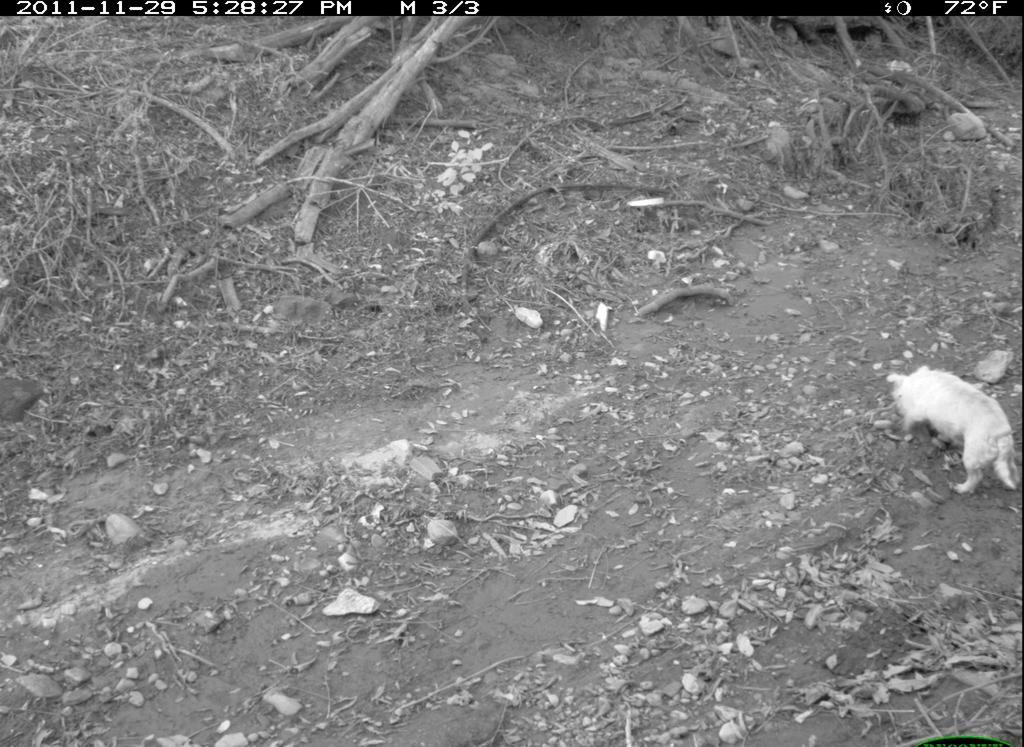dog: (876, 361, 1016, 498)
